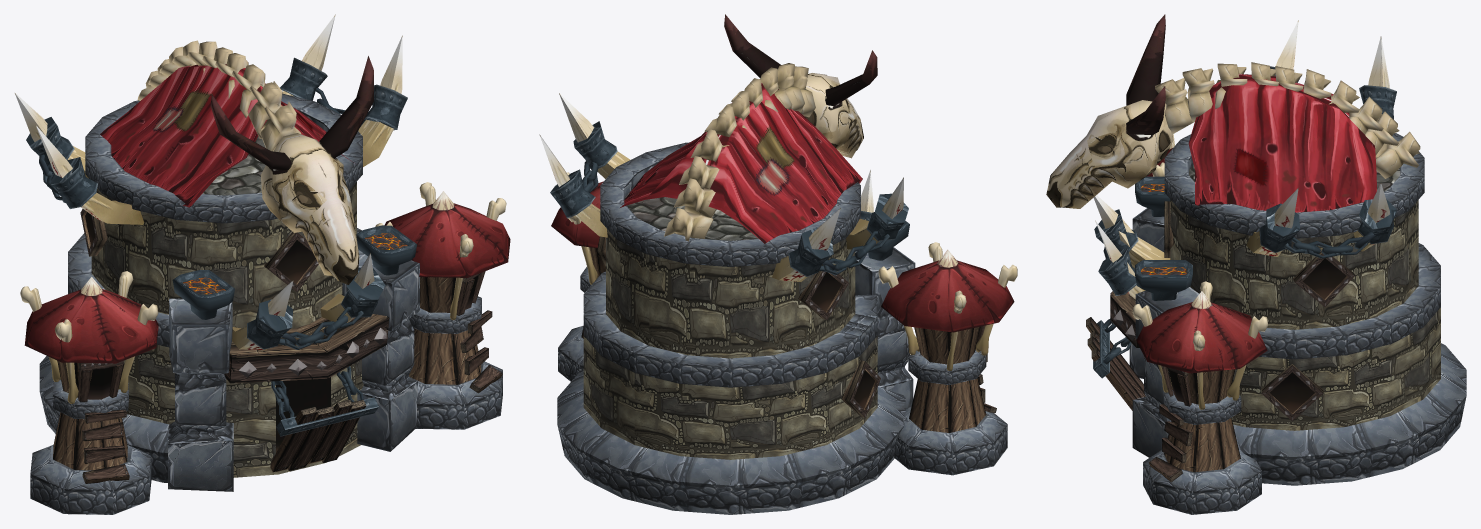
Rendered from Orc_Town_Hall_2.FBX.
3 renders of one model, left to right at view 1: azimuth 30°, elevation 25°; view 2: azimuth 150°, elevation 25°; view 3: azimuth 270°, elevation 25°, orthographic. The views are drawn at different scales.
Visible parts, largest first — view 1: column, build001, vertebra001, awning002, foundation001 (×2), awning_tower001, awning_tower, roofing004, Wood_wall, manacles010, door002, Wood_wall001 (+20 smaller); view 2: column, build001, awning002, vertebra001, foundation001 (×2), awning_tower001, Wood_wall001, manacles002, manacles001, fang004, ceiling001, fang001 (+6 smaller); view 3: column, build001, awning002, vertebra001, awning_tower, foundation001, Wood_wall, manacles001, manacles010, fang023, femur, Perfume_burner001 (+13 smaller).
Boxes of the visible parts, x1,y1,x2,y2 form: column: (39, 93, 419, 491); build001: (91, 181, 363, 477); vertebra001: (137, 40, 373, 284); awning002: (100, 64, 353, 207); foundation001 (×2): (30, 296, 502, 514); awning_tower001: (24, 277, 158, 363); awning_tower: (384, 191, 510, 277); roofing004: (224, 314, 389, 383); Wood_wall: (409, 277, 481, 384); manacles010: (247, 268, 385, 349); door002: (270, 399, 366, 472); Wood_wall001: (53, 360, 127, 470); column: (557, 142, 915, 514); build001: (583, 228, 877, 459); awning002: (620, 83, 862, 243); vertebra001: (664, 14, 877, 241); foundation001 (×2): (558, 266, 1007, 475); awning_tower001: (881, 249, 1014, 332); Wood_wall001: (909, 327, 986, 432); manacles002: (788, 193, 908, 276); manacles001: (550, 121, 617, 218); fang004: (772, 177, 903, 281); ceiling001: (624, 190, 758, 240); fang001: (539, 93, 630, 237); column: (1129, 133, 1466, 485); build001: (1170, 199, 1440, 430); awning002: (1188, 74, 1376, 212); vertebra001: (1046, 14, 1420, 208); awning_tower: (1136, 291, 1267, 373); foundation001: (1143, 390, 1261, 514); Wood_wall: (1164, 369, 1240, 472); manacles001: (1259, 199, 1396, 258); manacles010: (1094, 209, 1138, 295); fang023: (1093, 195, 1170, 299); femur: (1132, 281, 1268, 409); Perfume_burner001: (1135, 260, 1192, 300).
Size of the model in its own units: 6278 by 5161 by 4925.
